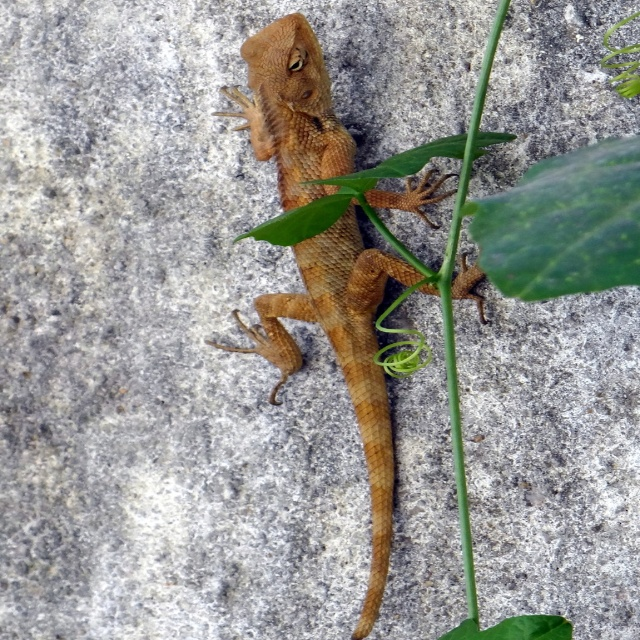Lizard: (214, 11, 488, 640)
